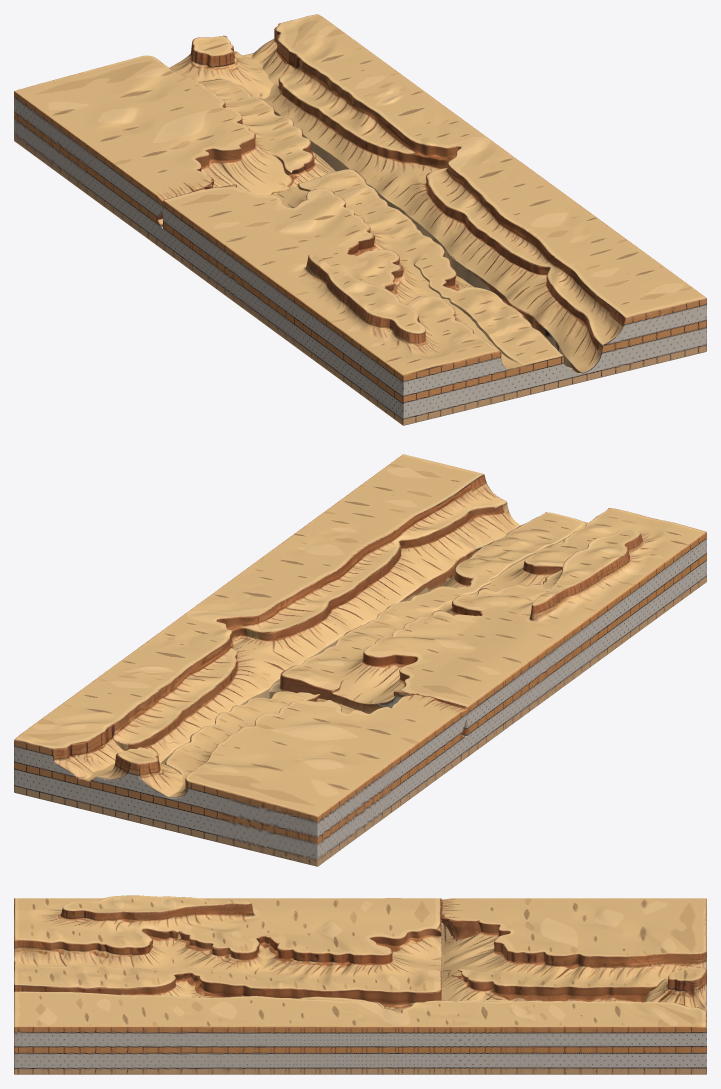
The model's file is yatay yapılı saha.glb.
3 views of the same model, one above another, from view 1: azimuth 30°, elevation 25°; view 2: azimuth 150°, elevation 25°; view 3: azimuth 270°, elevation 25° (orthographic). The views are drawn at different scales.
Parts seen in each view (by area): view 1: Meshy_AI_Desert_Erosion_Landforms_20261025_texture; view 2: Meshy_AI_Desert_Erosion_Landforms_20261025_texture; view 3: Meshy_AI_Desert_Erosion_Landforms_20261025_texture.
Boxes of the visible parts, x1,y1,x2,y2 form: Meshy_AI_Desert_Erosion_Landforms_20261025_texture: (14, 14, 706, 425); Meshy_AI_Desert_Erosion_Landforms_20261025_texture: (14, 454, 706, 866); Meshy_AI_Desert_Erosion_Landforms_20261025_texture: (14, 895, 706, 1074).
Bounding box in the file's own units: 0.8588 × 0.1789 × 1.9.
Materials: 1 (1 with a texture image).
